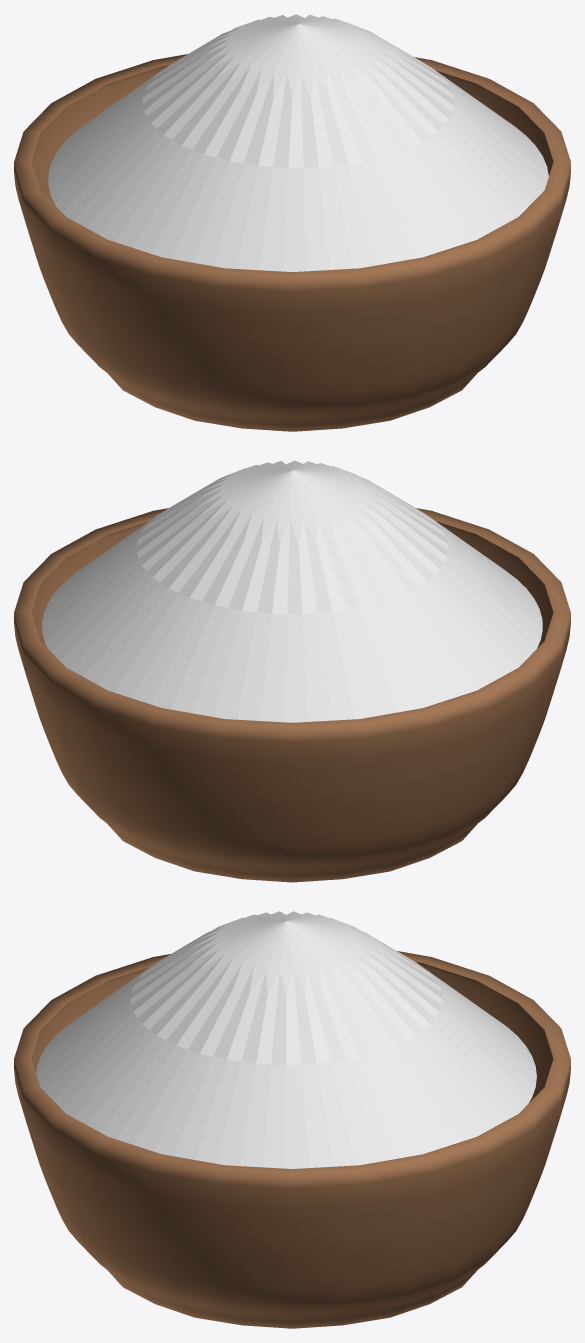
The model's file is Flour.glb.
The picture shows the model from 3 angles, top to bottom: view 1: azimuth 30°, elevation 25°; view 2: azimuth 150°, elevation 25°; view 3: azimuth 270°, elevation 25°; orthographic projection.
Parts seen in each view (by area): view 1: Flour, Bowl; view 2: Flour, Bowl; view 3: Flour, Bowl.
Part boxes in pixels (<box>): Flour: <box>48,14,548,271</box>; Bowl: <box>14,54,570,431</box>; Flour: <box>42,460,542,722</box>; Bowl: <box>14,508,570,882</box>; Flour: <box>36,911,536,1168</box>; Bowl: <box>14,951,570,1328</box>.
Size of the model in its own units: 0.5443 by 0.3623 by 0.5443.
